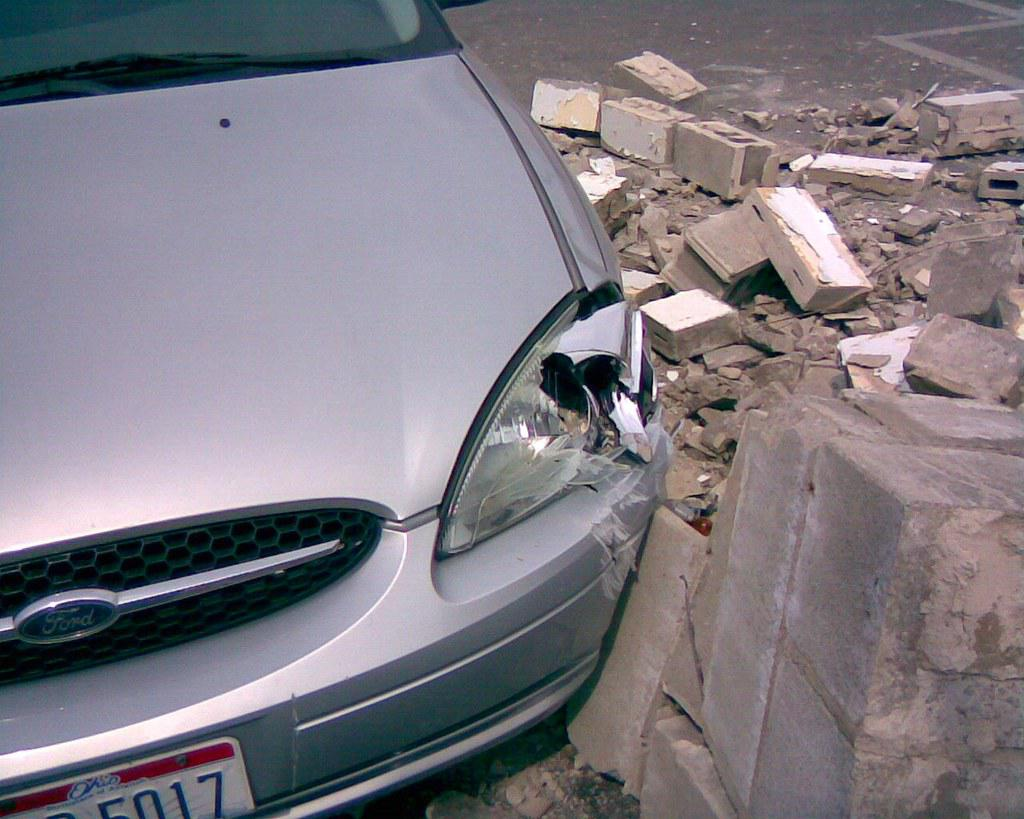Headlight-Damage: (381, 243, 695, 583)
